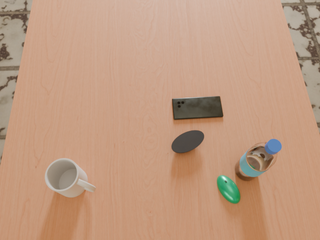bottle: (235, 139, 282, 181)
cup: (45, 158, 96, 197)
mouse: (172, 130, 204, 153), (217, 175, 240, 204)
phone: (172, 96, 223, 120)
